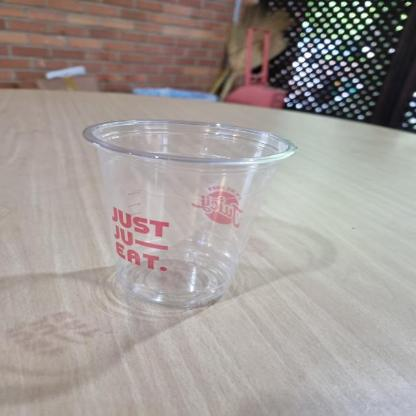Plastic Cup: (75, 113, 299, 317)
